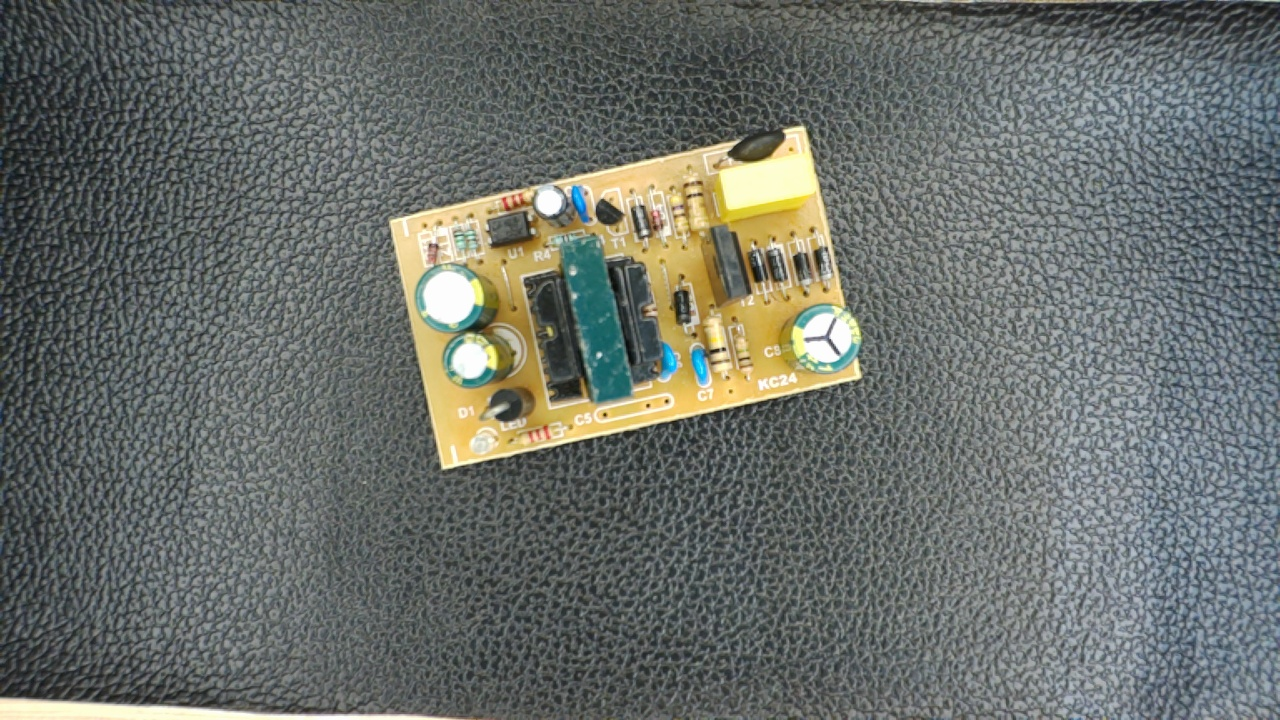fuse: (704, 128, 797, 173)
hv_capacitor: (780, 299, 867, 375)
optocoupler: (477, 212, 542, 252)
